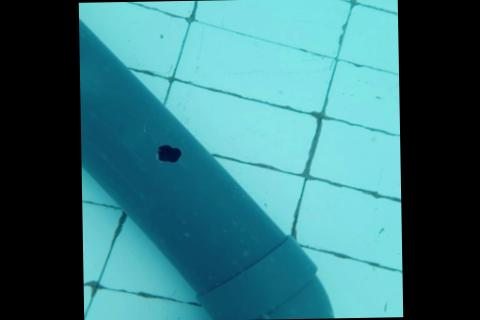kebocoran: (153, 144, 182, 165)
